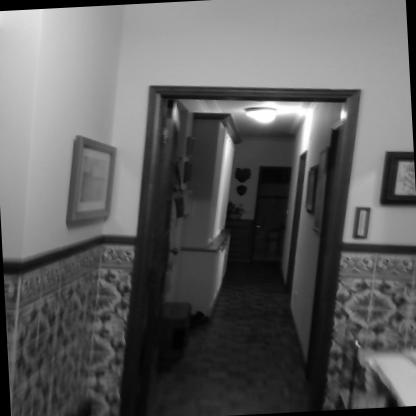open: (103, 70, 374, 416)
